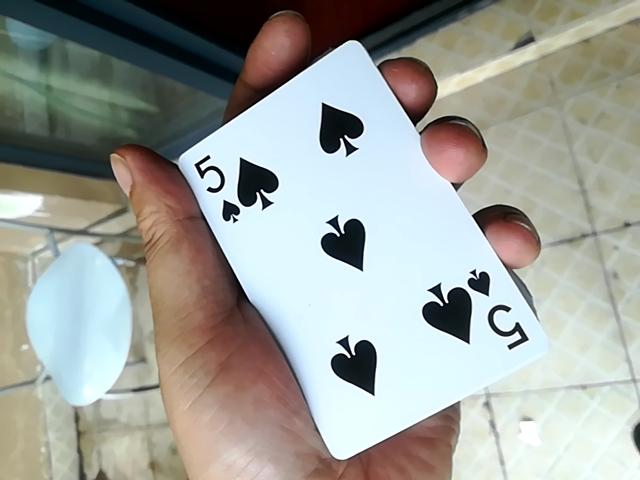ht 5: (170, 39, 544, 459)
